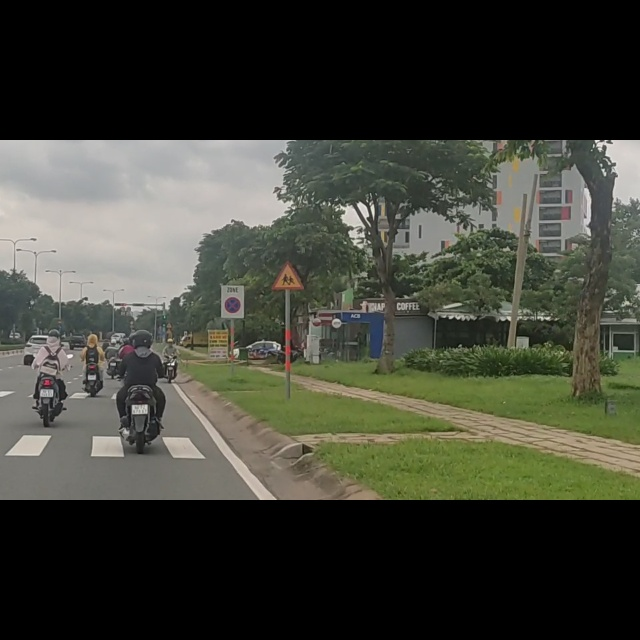bien_nguy_hiem: (272, 215, 305, 265), (225, 279, 241, 308)
